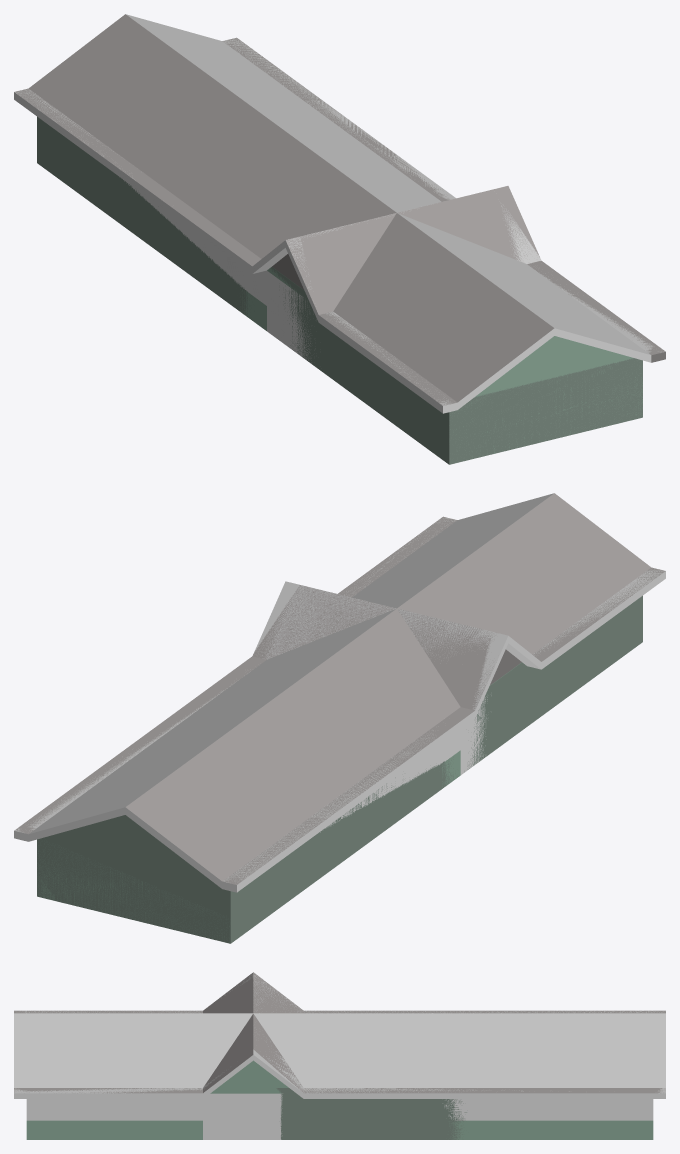
The model's file is sports_complex2.dae.
The picture shows the model from 3 angles, top to bottom: view 1: azimuth 30°, elevation 25°; view 2: azimuth 150°, elevation 25°; view 3: azimuth 270°, elevation 25°; orthographic projection. The views are drawn at different scales.
Visible parts, largest first — view 1: sports_complex2_a100, sports_complex2_a300; view 2: sports_complex2_a100, sports_complex2_a300; view 3: sports_complex2_a300, sports_complex2_a100.
Part boxes in pixels (x1=…): sports_complex2_a100: x1=15, y1=14, x2=665, y2=464; sports_complex2_a300: x1=14, y1=14, x2=665, y2=462; sports_complex2_a100: x1=15, y1=493, x2=665, y2=943; sports_complex2_a300: x1=14, y1=493, x2=665, y2=942; sports_complex2_a300: x1=14, y1=973, x2=665, y2=1139; sports_complex2_a100: x1=14, y1=972, x2=665, y2=1139.
Bounding box in the file's own units: 9.2 × 30.68 × 4.7.
